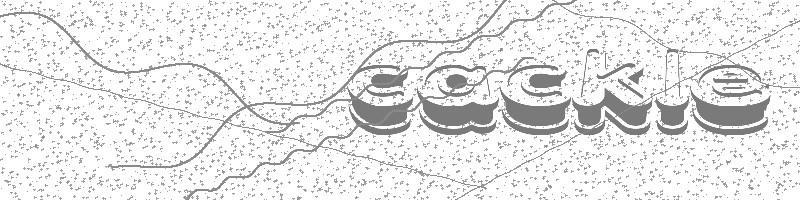a: (417, 64, 498, 135)
c: (500, 64, 572, 137), (346, 63, 415, 135)
e: (690, 64, 771, 135)
k: (573, 46, 653, 136)
l: (656, 46, 690, 137)
